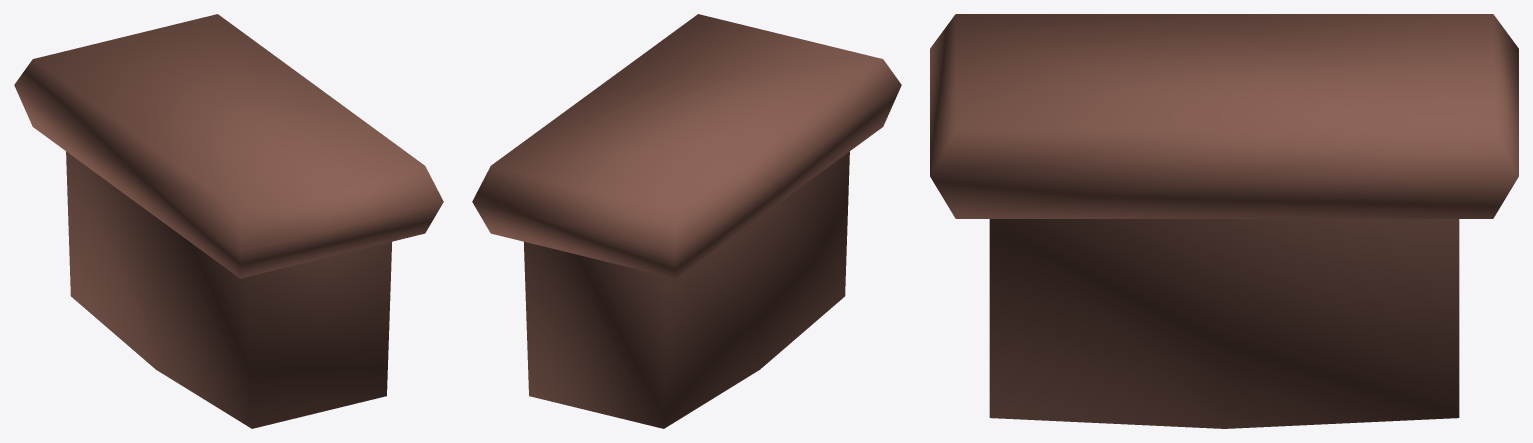
File: Bread.fbx
The picture shows the model from 3 angles, left to right: view 1: azimuth 30°, elevation 25°; view 2: azimuth 150°, elevation 25°; view 3: azimuth 270°, elevation 25°; orthographic projection. The views are drawn at different scales.
Visible parts, largest first — view 1: Cube.001, Cube; view 2: Cube.001, Cube; view 3: Cube.001, Cube.
Part boxes in pixels (x1=…): Cube.001: x1=14, y1=14, x2=443, y2=278; Cube: x1=66, y1=151, x2=391, y2=428; Cube.001: x1=472, y1=14, x2=901, y2=278; Cube: x1=524, y1=151, x2=849, y2=428; Cube.001: x1=930, y1=14, x2=1518, y2=218; Cube: x1=989, y1=219, x2=1459, y2=428.
Size of the model in its own units: 211 by 239 by 410.
